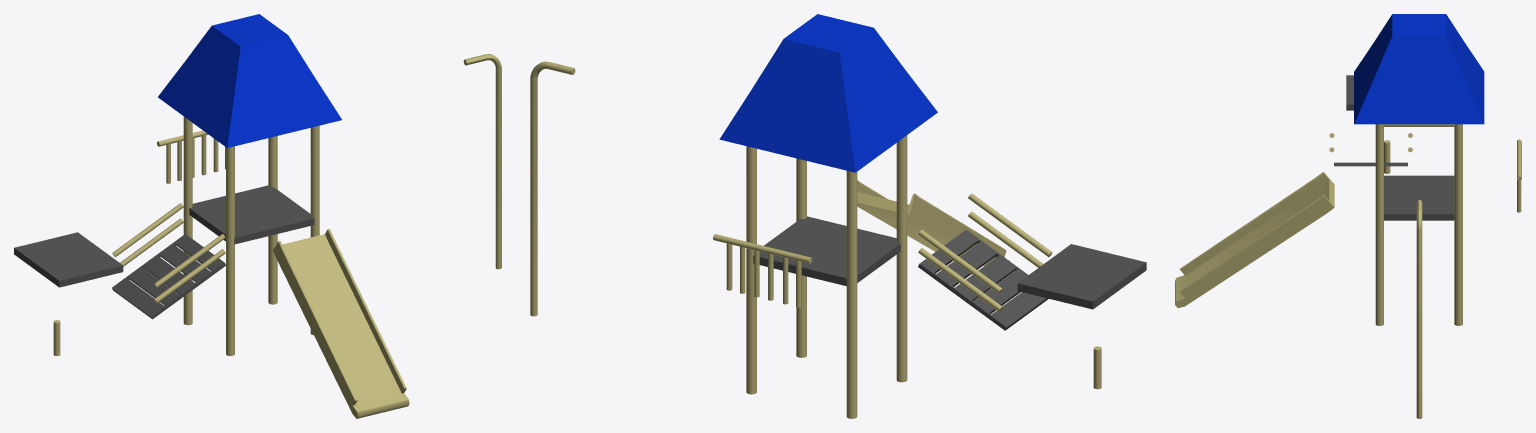
The model's file is modular_Playground.fbx.
3 views of the same model, side by side, from view 1: azimuth 30°, elevation 25°; view 2: azimuth 150°, elevation 25°; view 3: azimuth 270°, elevation 25° (orthographic). The views are drawn at different scales.
Visible parts, largest first — view 1: tower, Slide, slant, platform, Climbing pole, rail; view 2: tower, slant, platform, Slide, rail, Climbing pole; view 3: tower, Slide, Climbing pole, slant, rail.
Part boxes in pixels (x1,y1,x2,y2): tower: [158, 14, 341, 355]; Slide: [273, 229, 409, 418]; slant: [112, 203, 225, 319]; platform: [14, 232, 123, 287]; Climbing pole: [463, 54, 501, 269]; rail: [157, 130, 225, 183]; tower: [719, 14, 937, 418]; slant: [918, 193, 1052, 330]; platform: [1017, 244, 1146, 309]; Slide: [857, 180, 1008, 265]; rail: [713, 234, 812, 307]; Climbing pole: [530, 61, 575, 316]; tower: [1354, 14, 1484, 325]; Slide: [1175, 172, 1334, 307]; Climbing pole: [1416, 200, 1422, 418]; slant: [1329, 133, 1412, 166]; rail: [1517, 139, 1521, 212].
Size of the model in its own units: 1304 by 773 by 870.
